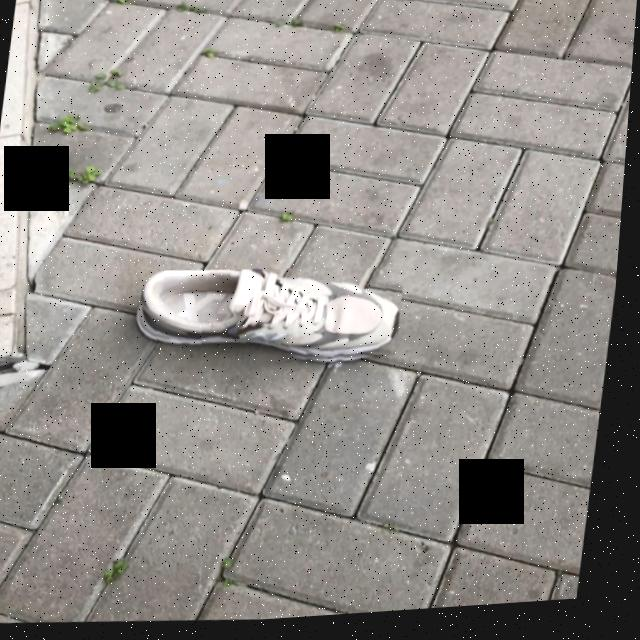shoe: (142, 273, 405, 365)
